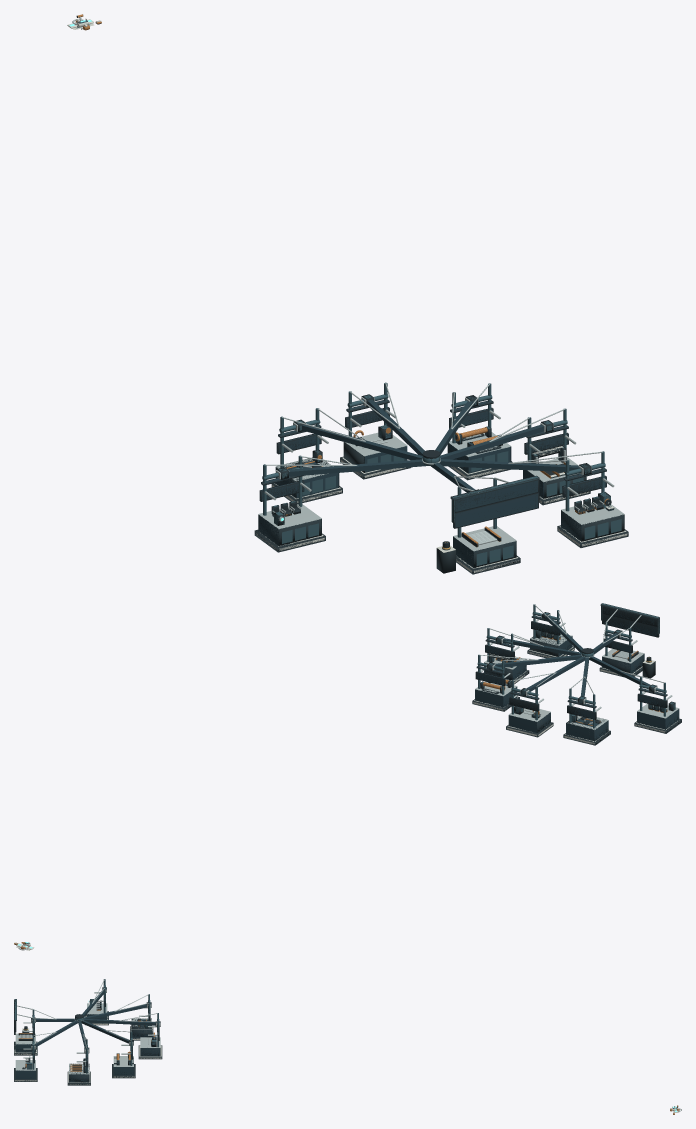
File: coaster-workshop.glb
3 views of the same model, one above another, from view 1: azimuth 30°, elevation 25°; view 2: azimuth 150°, elevation 25°; view 3: azimuth 270°, elevation 25° (orthographic). The views are drawn at different scales.
Visible parts, largest first — view 1: StaticWorkshopSurfaces, ShadowWorkshopSurfaces; view 2: StaticWorkshopSurfaces, ShadowWorkshopSurfaces; view 3: StaticWorkshopSurfaces, ShadowWorkshopSurfaces.
Boxes of the visible parts, x1,y1,x2,y2 form: StaticWorkshopSurfaces: (256,382,627,572); ShadowWorkshopSurfaces: (254,382,628,574); StaticWorkshopSurfaces: (473,603,679,744); ShadowWorkshopSurfaces: (472,603,681,745); StaticWorkshopSurfaces: (14,979,161,1084); ShadowWorkshopSurfaces: (14,979,162,1085).
Size of the model in its own units: 26.68 by 5.22 by 75.
